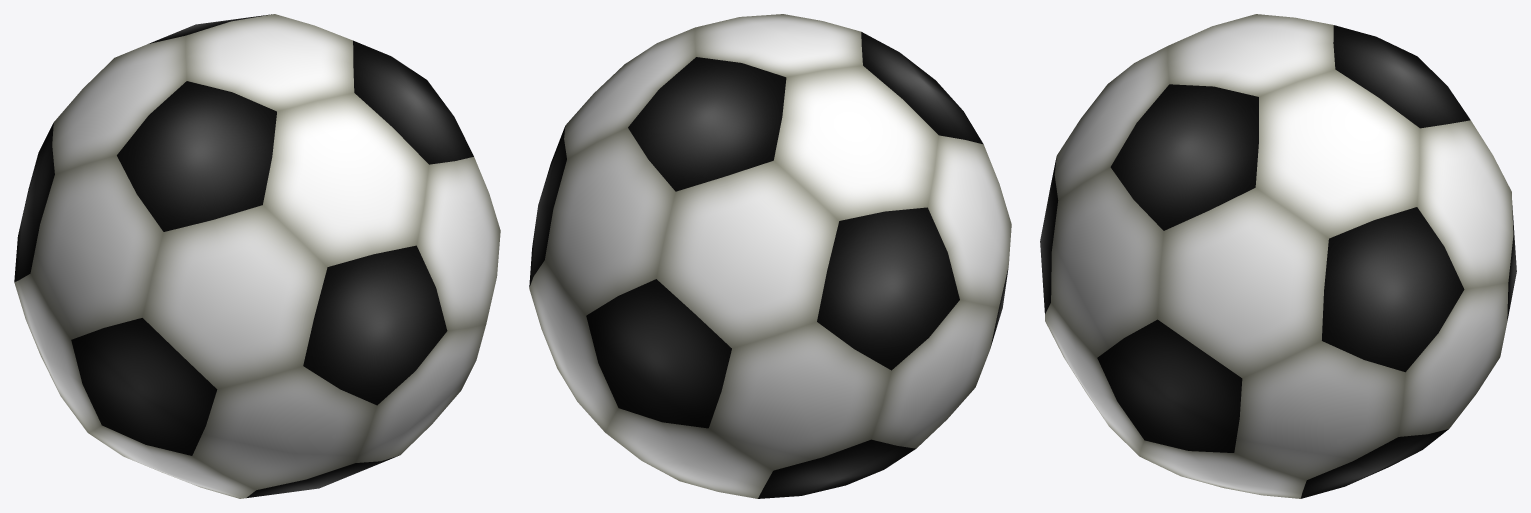
File: soccerball.FBX
The picture shows the model from 3 angles, left to right: view 1: azimuth 30°, elevation 25°; view 2: azimuth 150°, elevation 25°; view 3: azimuth 270°, elevation 25°; orthographic projection.
Parts seen in each view (by area): view 1: SoccerBall; view 2: SoccerBall; view 3: SoccerBall.
Part boxes in pixels (x1,y1,x2,y2): SoccerBall: (14,14,500,498); SoccerBall: (529,14,1011,498); SoccerBall: (1040,14,1516,498).
Bounding box in the file's own units: 26.15 × 25.52 × 25.82.
